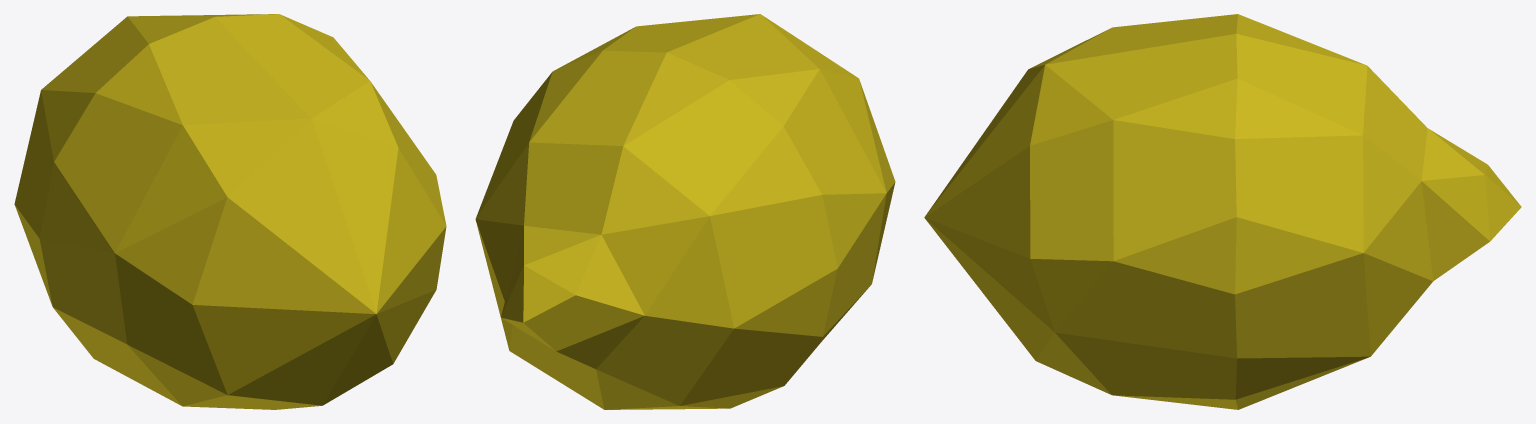
The model's file is Lemon.fbx.
The picture shows the model from 3 angles, left to right: view 1: azimuth 30°, elevation 25°; view 2: azimuth 150°, elevation 25°; view 3: azimuth 270°, elevation 25°; orthographic projection. The views are drawn at different scales.
Parts seen in each view (by area): view 1: Lemon; view 2: Lemon; view 3: Lemon.
Boxes of the visible parts, bbox=[...] form: Lemon: bbox=[14, 14, 446, 409]; Lemon: bbox=[475, 14, 895, 409]; Lemon: bbox=[924, 14, 1521, 409].
Bounding box in the file's own units: 8.78 × 8.72 × 13.19.
